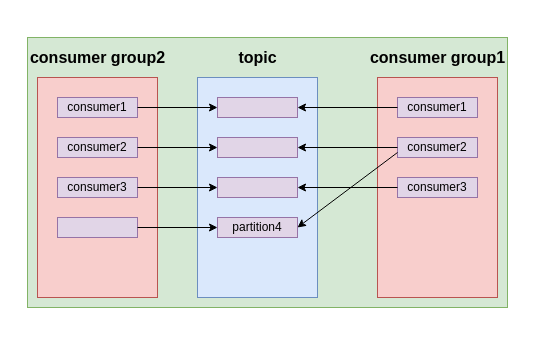
The diagram is 534 pixels wide and 344 high, and some of its shapes have lost their labels. Each missing label, with the centre of its shape:
"consumer4" goes at pixel 97 227.
"partition1" goes at pixel 257 107.
"partition2" goes at pixel 257 147.
"partition3" goes at pixel 257 187.
